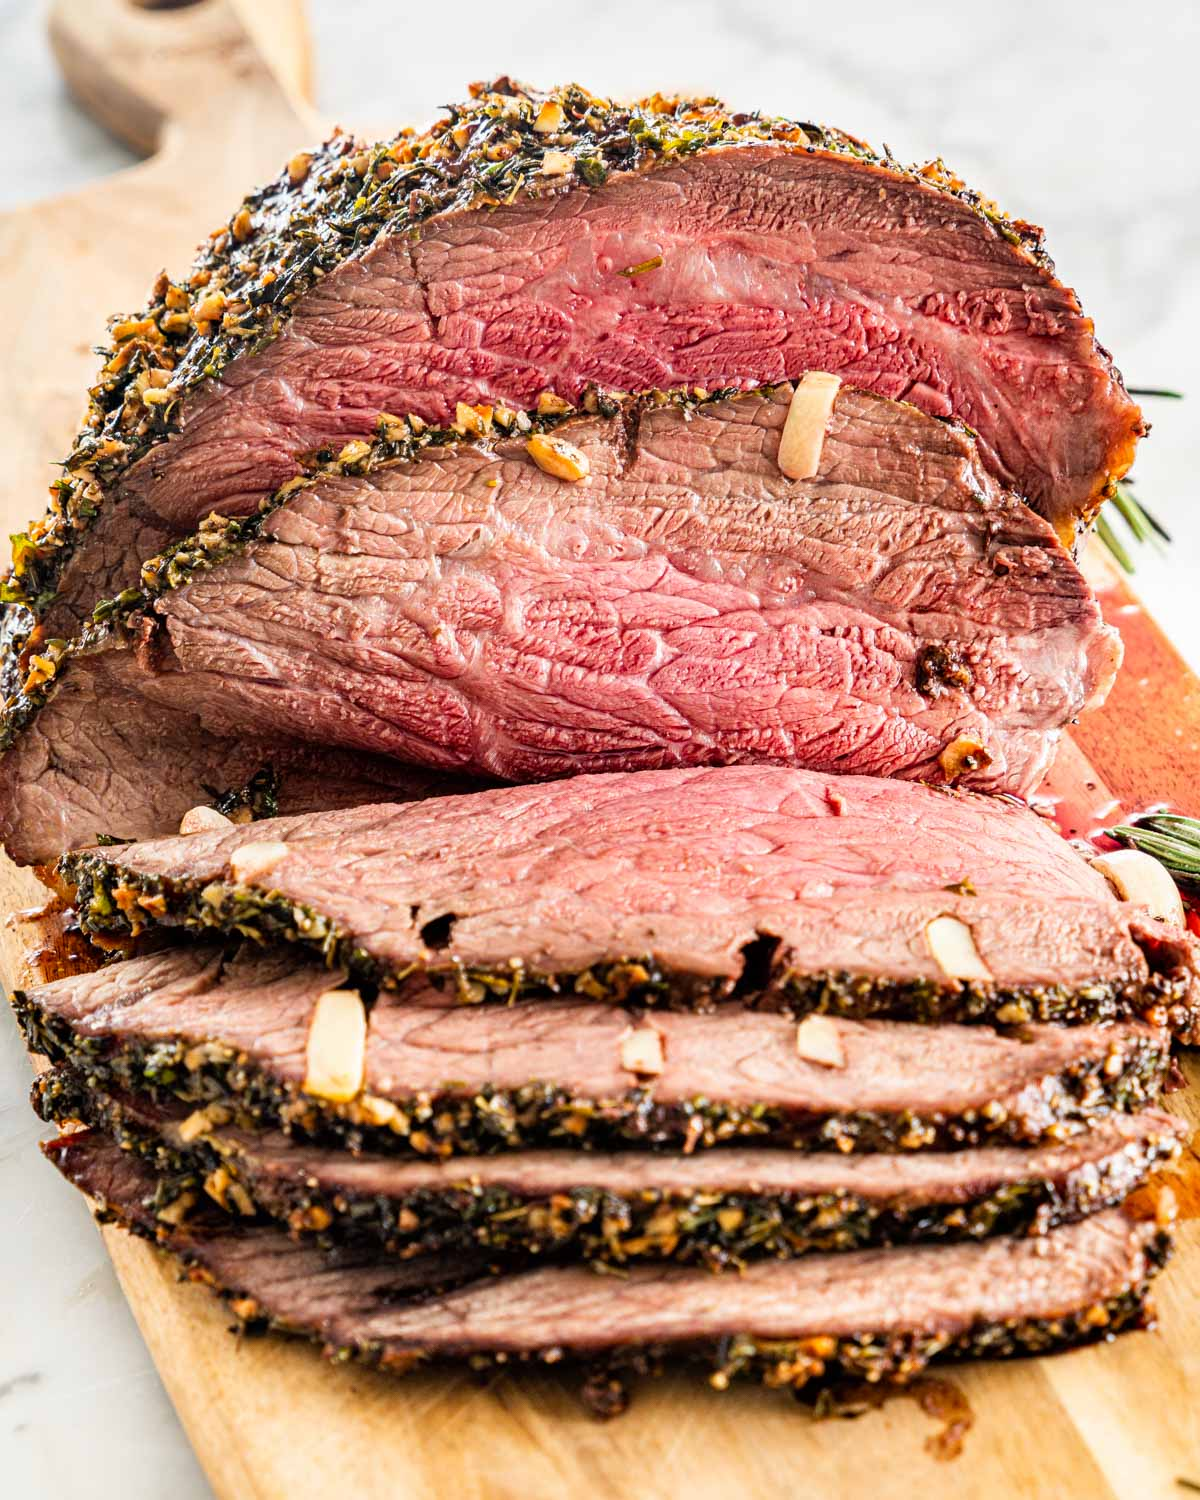beef-round-steak: (24, 763, 1179, 1367), (78, 81, 1149, 541), (96, 399, 1112, 806)
